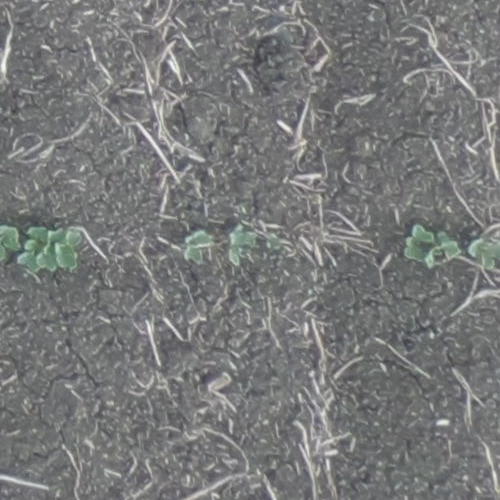plant: (0, 221, 84, 276), (402, 222, 461, 269), (467, 233, 499, 269), (227, 227, 255, 267), (182, 230, 213, 264), (261, 232, 285, 254)
